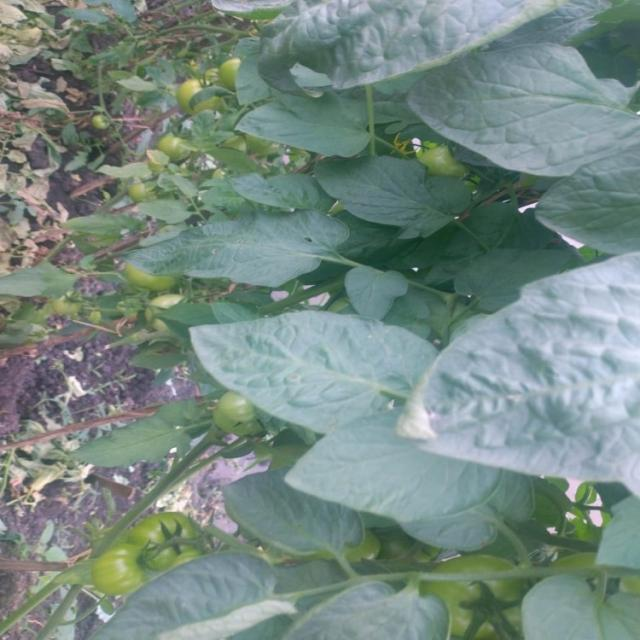tomato: (430, 553, 532, 640), (141, 509, 207, 572), (83, 534, 159, 588), (172, 74, 219, 120), (216, 393, 260, 430), (419, 144, 462, 180), (151, 128, 191, 161), (122, 174, 152, 207), (216, 48, 244, 82), (84, 104, 113, 133)
